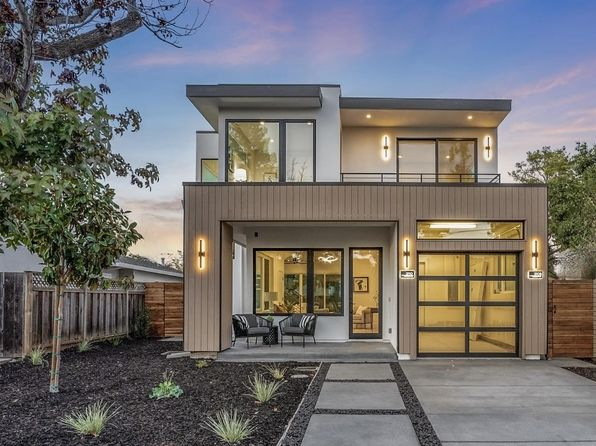Window: (418, 247, 522, 357), (254, 250, 346, 317), (225, 118, 315, 182), (394, 135, 477, 181), (350, 246, 384, 342), (416, 220, 525, 241), (200, 157, 221, 185)
